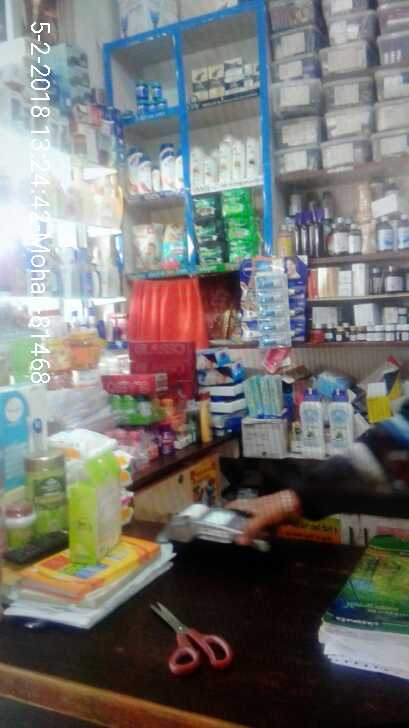beauty: (181, 131, 267, 186), (122, 136, 183, 194), (190, 51, 261, 96)
pharmacy: (221, 191, 261, 267), (189, 195, 222, 268), (123, 219, 161, 269), (128, 76, 175, 115), (160, 220, 186, 274)
